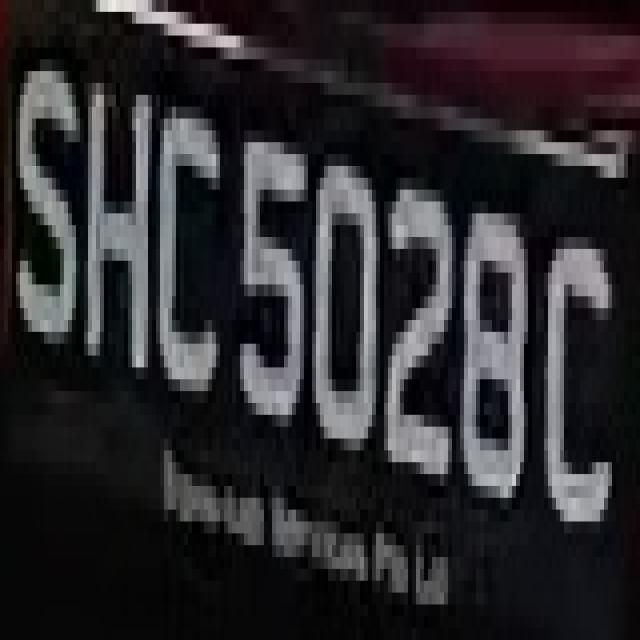0: (316, 118, 380, 498)
2: (380, 142, 464, 522)
5: (236, 83, 308, 474)
8: (448, 154, 524, 522)
C: (540, 190, 616, 592), (152, 95, 224, 438)
H: (80, 47, 156, 403)
S: (8, 12, 80, 379)
